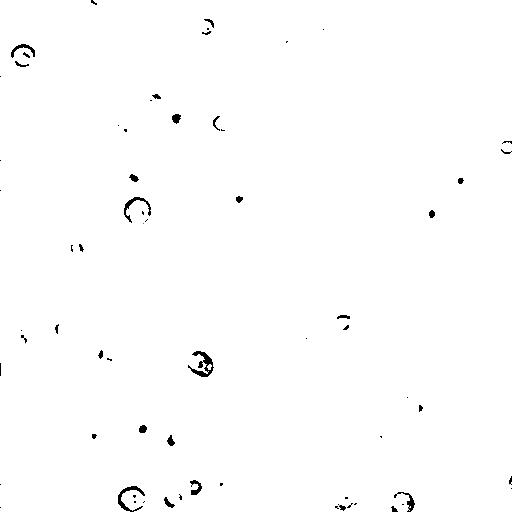micro-algae: (118, 99, 204, 183), (269, 7, 335, 72), (58, 356, 124, 421), (366, 141, 423, 197), (257, 452, 314, 508), (458, 466, 512, 512), (160, 443, 203, 486), (66, 208, 107, 244), (158, 98, 194, 138), (424, 0, 476, 27), (445, 164, 479, 198), (400, 390, 435, 423), (105, 117, 138, 151), (326, 484, 366, 512), (82, 251, 120, 280), (122, 194, 153, 228), (212, 467, 240, 503), (292, 324, 323, 356), (98, 337, 128, 368), (183, 350, 216, 378), (311, 13, 341, 43), (417, 199, 446, 230), (370, 422, 402, 450), (76, 41, 109, 68), (117, 484, 147, 512), (117, 164, 148, 190), (128, 416, 156, 443), (80, 417, 106, 446), (274, 34, 300, 61), (9, 43, 37, 67), (68, 232, 94, 257), (12, 326, 36, 353), (388, 491, 416, 512), (330, 312, 356, 334), (53, 317, 74, 342), (260, 97, 282, 120), (150, 439, 172, 461), (194, 17, 216, 36), (210, 113, 232, 132), (112, 0, 138, 16), (164, 489, 184, 508), (186, 479, 205, 499), (227, 194, 251, 209), (478, 0, 508, 11), (444, 77, 462, 95), (166, 430, 183, 448), (498, 140, 512, 155), (88, 0, 107, 6)
